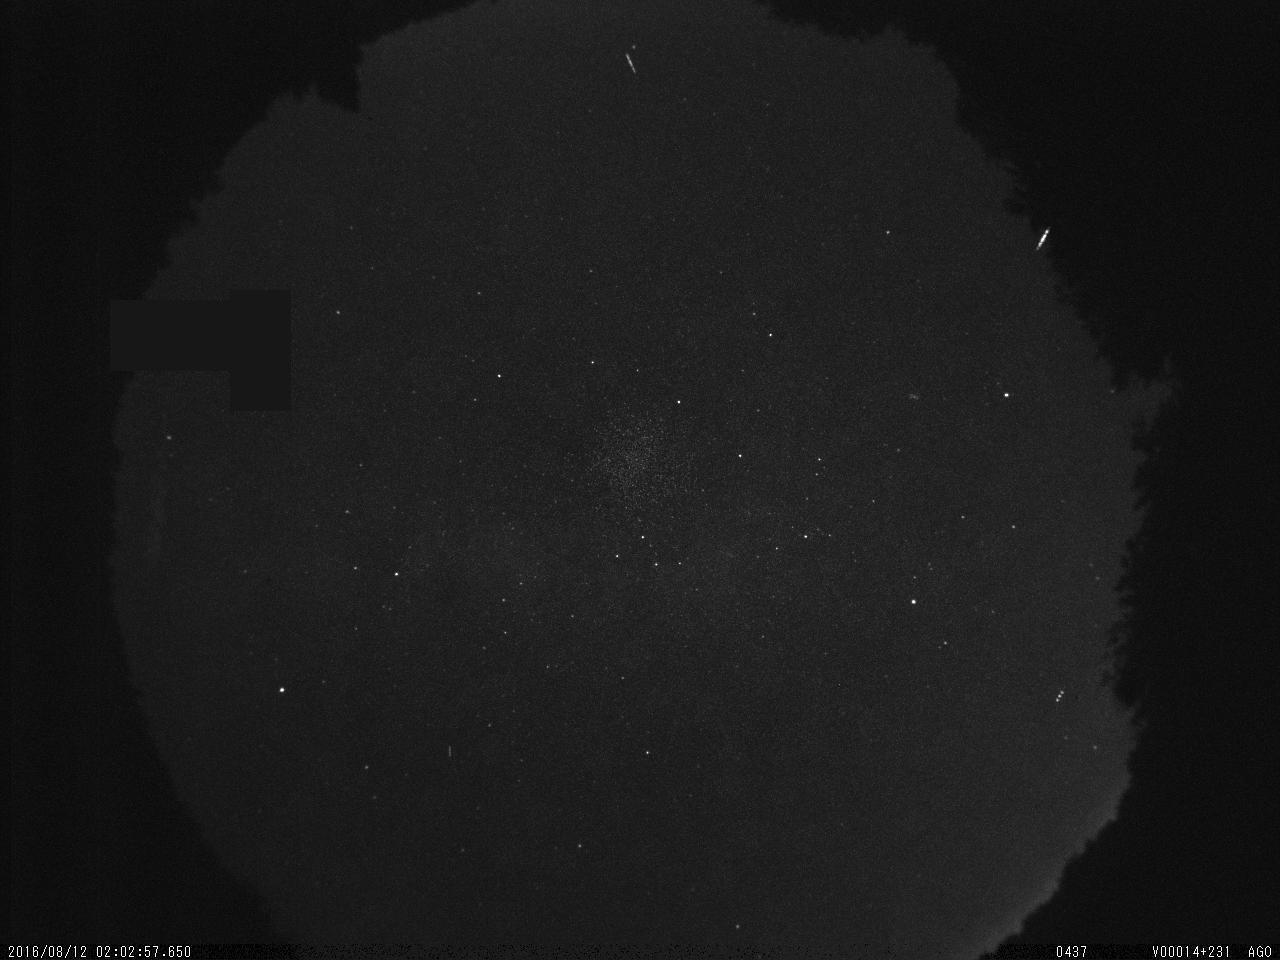Meteor: (621, 46, 640, 77), (1034, 225, 1051, 255)
